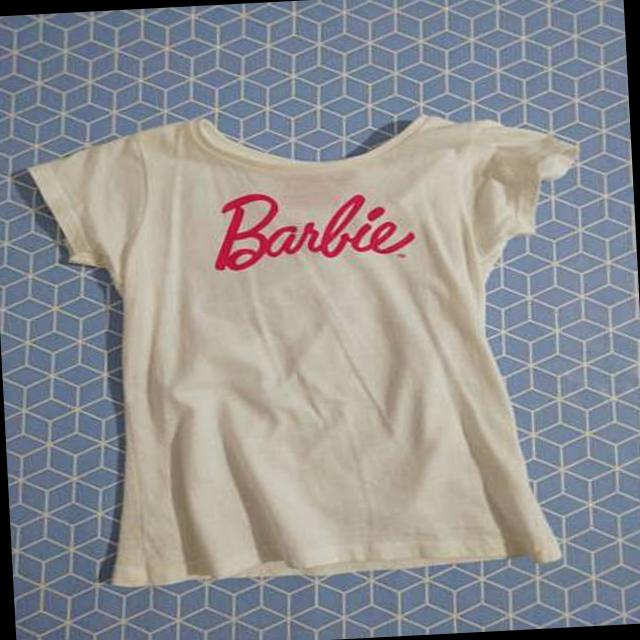T_SHIRT: (0, 90, 618, 599)
